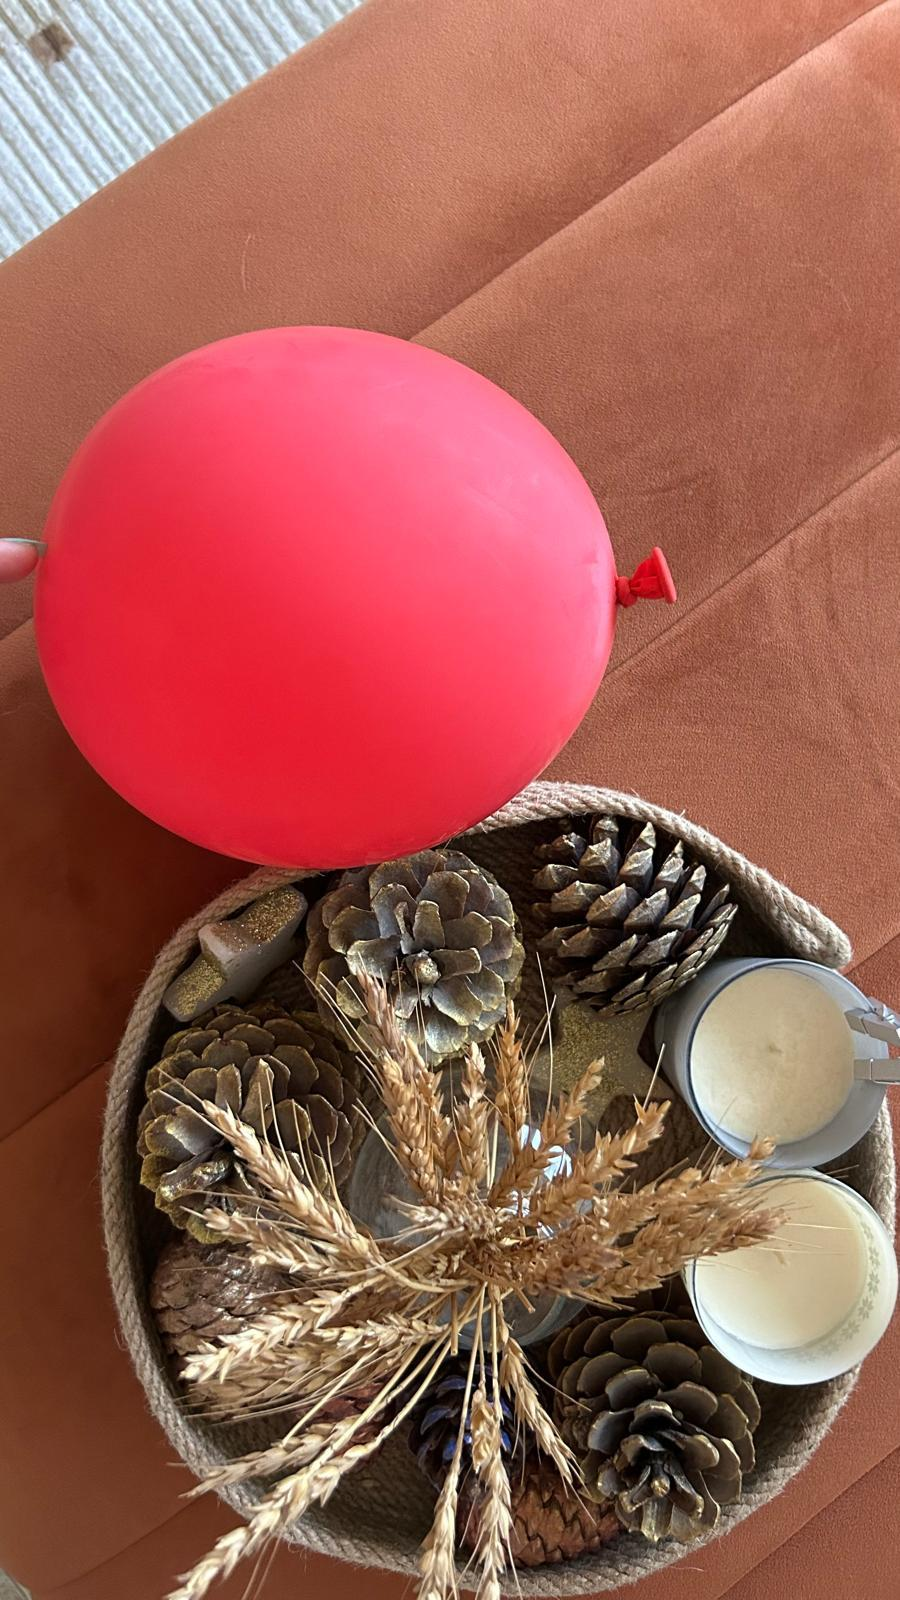red: (27, 321, 680, 873)
